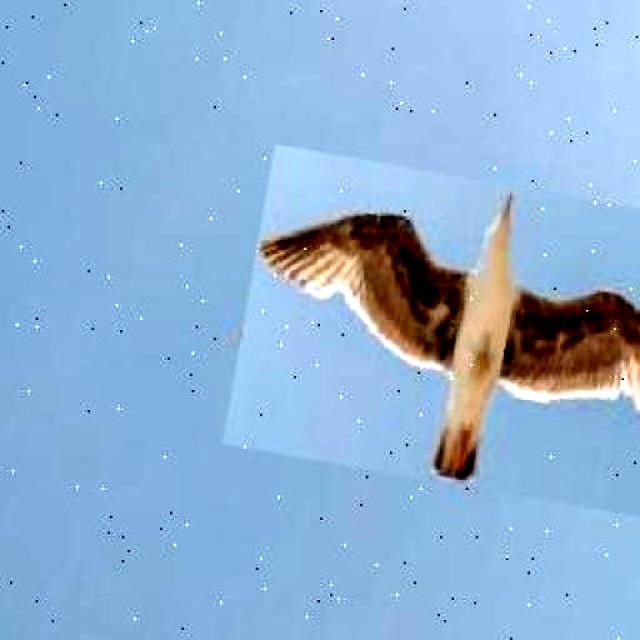airplane: (222, 144, 640, 530)
